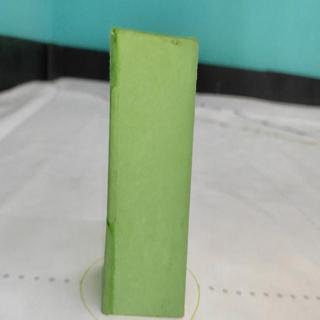greenbox: (105, 29, 201, 320)
